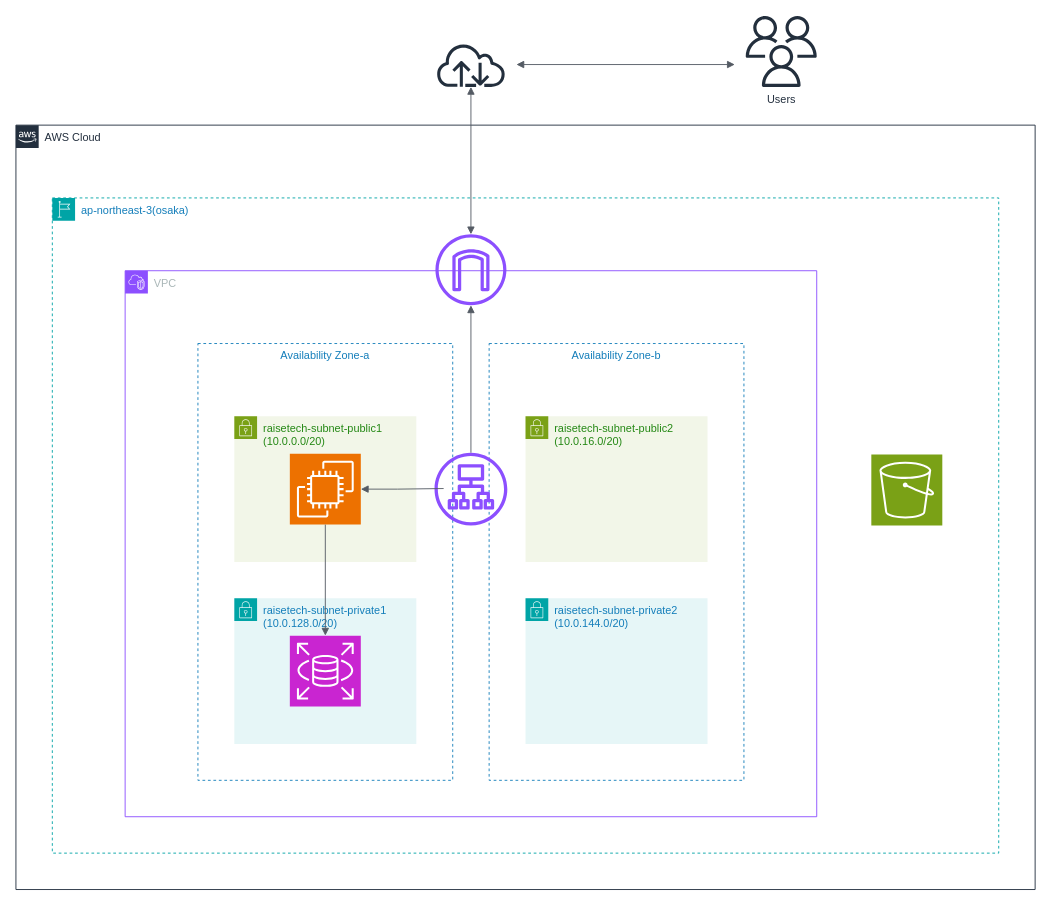
Some shapes in this 1051 by 905 pixel diagram are drawn without their labels. Here are the shapes that lost their labels. From the top down, the centre of each, then its label:
the point at 470,64: Internet
the point at 470,269: raisetech-vpc
the point at 325,489: RaiseTech
the point at 906,490: raisetech-testbucket
the point at 325,671: database-raisetech
